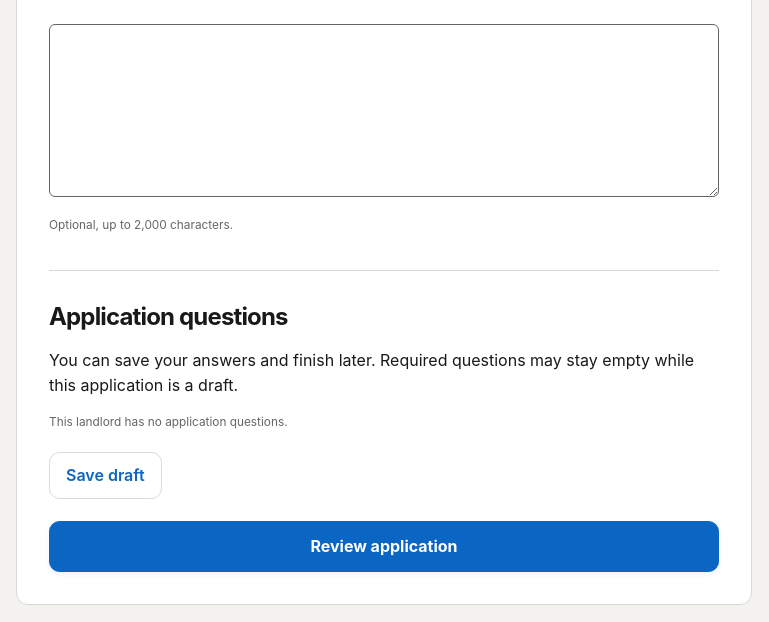
Test: application draft protected route › handles an edit-time listing availability race safely
(page scrolled)
Click the button "Save draft".
click(105, 475)  # box [49,452,162,499]
(page scrolled)
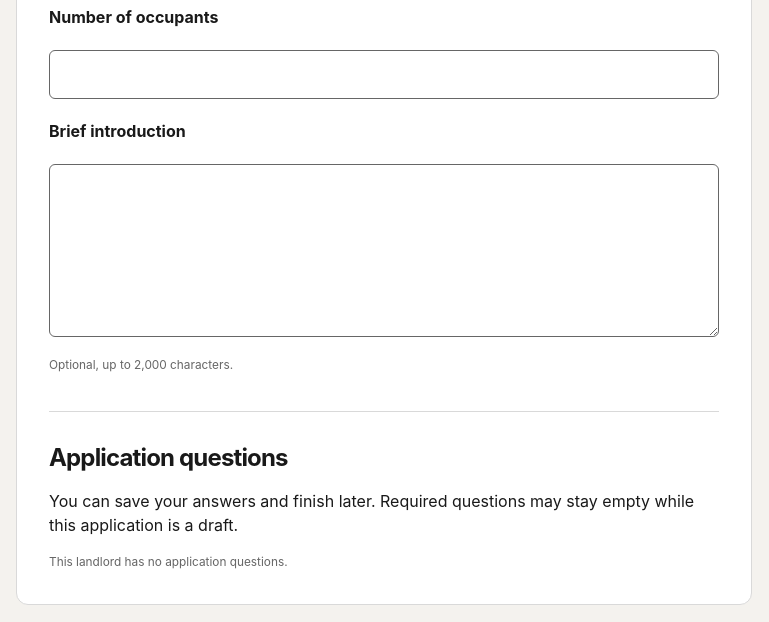
Expected: the text box labelled "Brief introduction" is disabled, [49,164,719,337]
